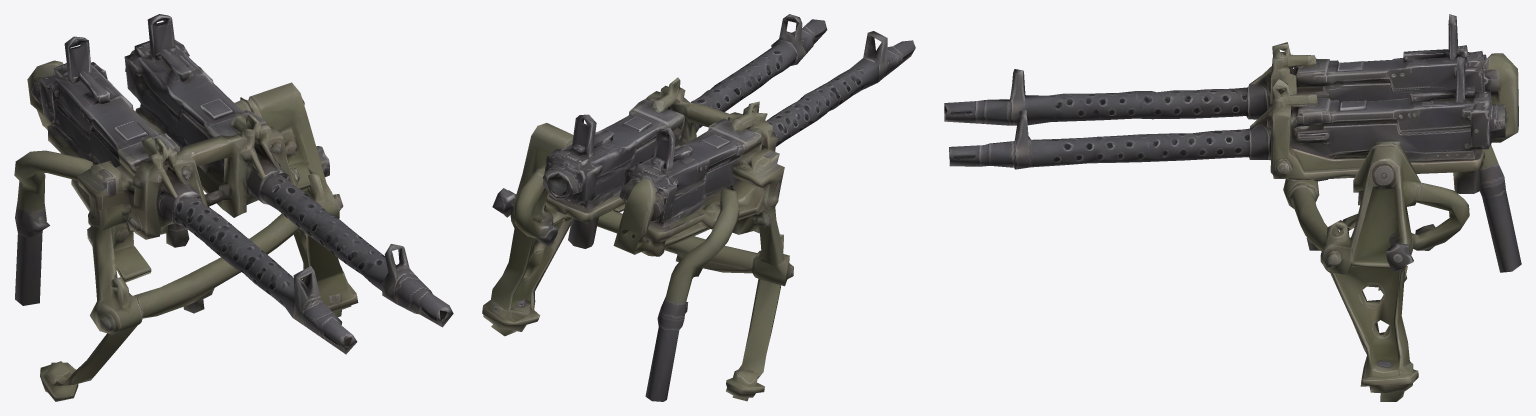
Rendered from weapon.rear-gun.glb.
The picture shows the model from 3 angles, left to right: view 1: azimuth 30°, elevation 25°; view 2: azimuth 150°, elevation 25°; view 3: azimuth 270°, elevation 25°; orthographic projection. The views are drawn at different scales.
Parts seen in each view (by area): view 1: tripo_node_9d81c994-fdc8-40f9-8fb1-3284751127da; view 2: tripo_node_9d81c994-fdc8-40f9-8fb1-3284751127da; view 3: tripo_node_9d81c994-fdc8-40f9-8fb1-3284751127da.
Part boxes in pixels (x1,y1,x2,y2): tripo_node_9d81c994-fdc8-40f9-8fb1-3284751127da: (14,14,453,401); tripo_node_9d81c994-fdc8-40f9-8fb1-3284751127da: (482,14,915,401); tripo_node_9d81c994-fdc8-40f9-8fb1-3284751127da: (944,14,1521,401).
Bounding box in the file's own units: 0.5655 × 0.5706 × 1.
1 material, 1 textured.
